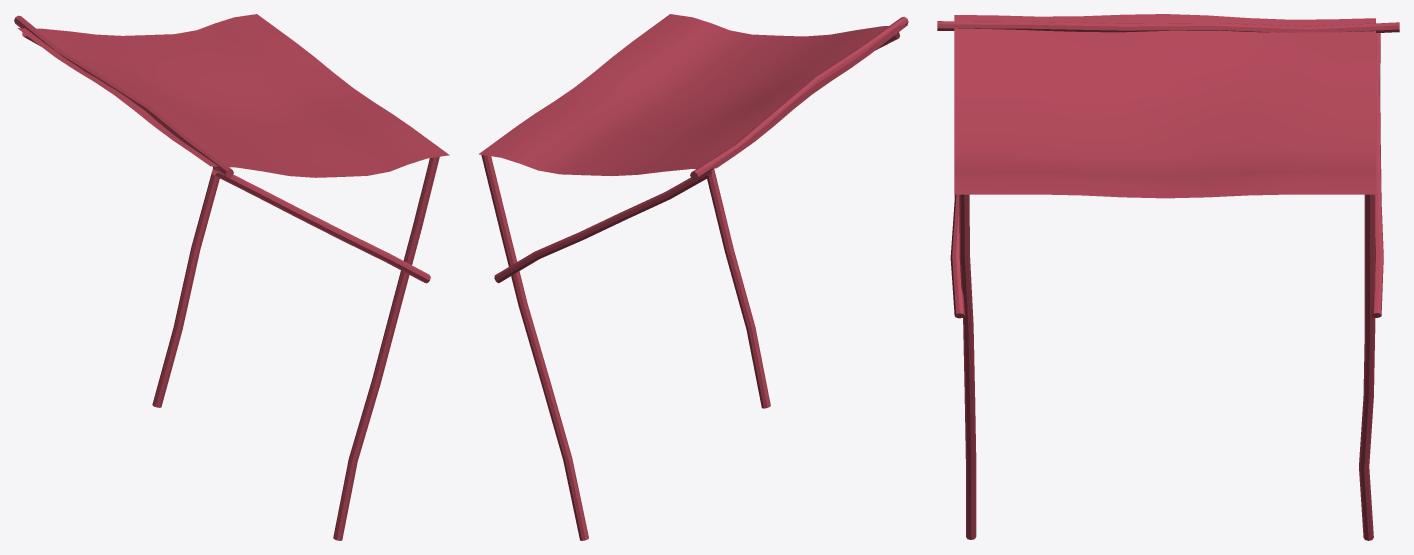
File: sunblind.fbx
The picture shows the model from 3 angles, left to right: view 1: azimuth 30°, elevation 25°; view 2: azimuth 150°, elevation 25°; view 3: azimuth 270°, elevation 25°; orthographic projection. The views are drawn at different scales.
Parts seen in each view (by area): view 1: pCylinder32; view 2: pCylinder32; view 3: pCylinder32.
Boxes of the visible parts, x1,y1,x2,y2 form: pCylinder32: [14, 14, 449, 540]; pCylinder32: [479, 14, 908, 540]; pCylinder32: [937, 14, 1399, 540].
Bounding box in the file's own units: 2.68 × 4.43 × 4.11.
